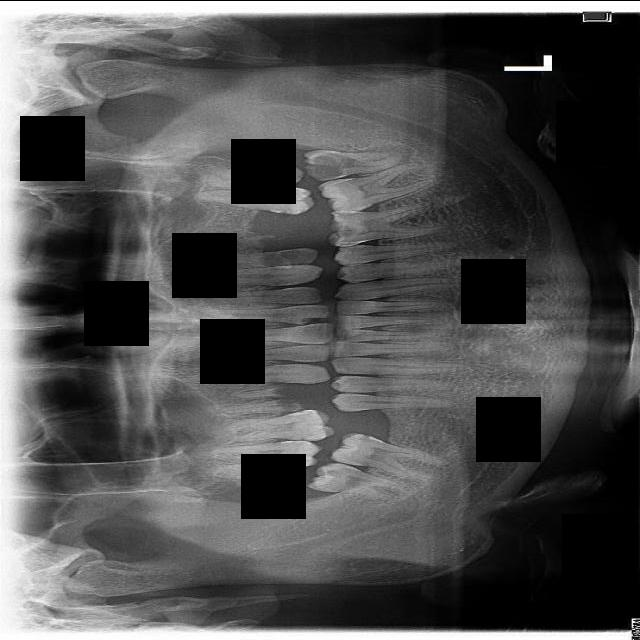72: (217, 396, 303, 417), (233, 385, 289, 400), (225, 235, 270, 249)
Sterngold Implant: (259, 248, 310, 273), (303, 151, 345, 181), (336, 221, 357, 236), (299, 315, 326, 324), (264, 187, 296, 194), (323, 467, 345, 477), (357, 432, 377, 442), (271, 206, 296, 213), (265, 178, 283, 185)
